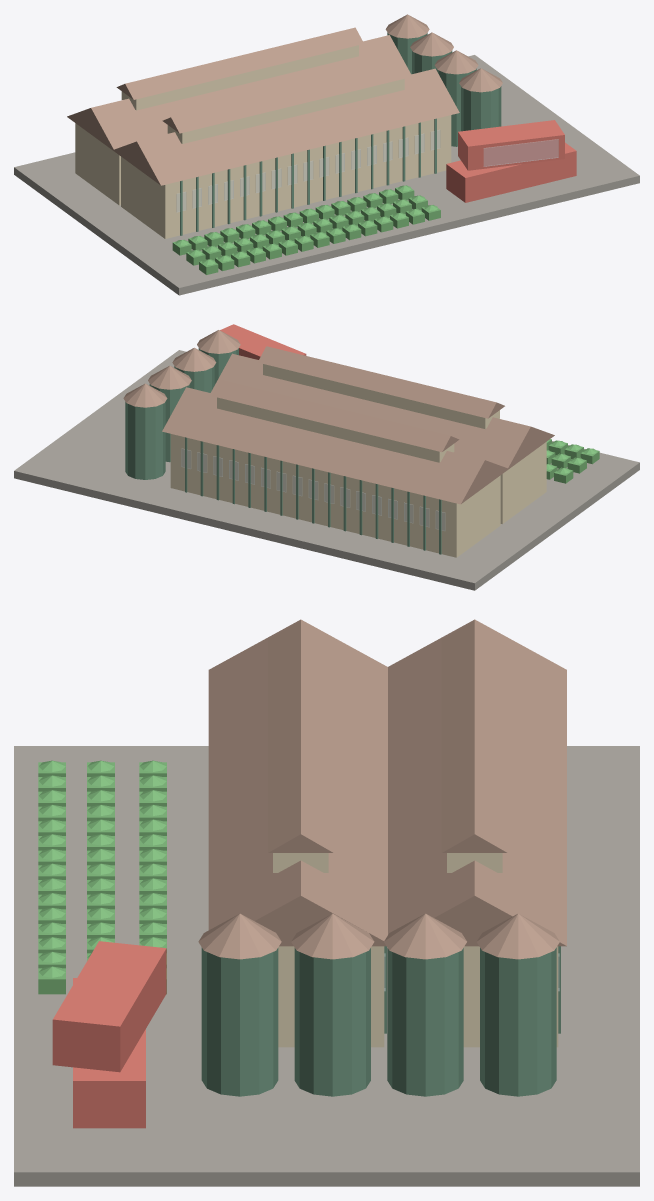
The model's file is lm_56_nha_may_che_co_cau_dat_1927_heritage_factory_complex.glb.
The picture shows the model from 3 angles, top to bottom: view 1: azimuth 30°, elevation 25°; view 2: azimuth 150°, elevation 25°; view 3: azimuth 270°, elevation 25°; orthographic projection. The views are drawn at different scales.
Visible parts, largest first — view 1: lm_56_nha_may_che_co_cau_dat_1927_heritage_factory_complex; view 2: lm_56_nha_may_che_co_cau_dat_1927_heritage_factory_complex; view 3: lm_56_nha_may_che_co_cau_dat_1927_heritage_factory_complex.
Part boxes in pixels (x1,y1,x2,y2): lm_56_nha_may_che_co_cau_dat_1927_heritage_factory_complex: (14, 14, 639, 295); lm_56_nha_may_che_co_cau_dat_1927_heritage_factory_complex: (14, 324, 639, 590); lm_56_nha_may_che_co_cau_dat_1927_heritage_factory_complex: (14, 619, 639, 1186).
Size of the model in its own units: 58 by 12.8 by 36.
